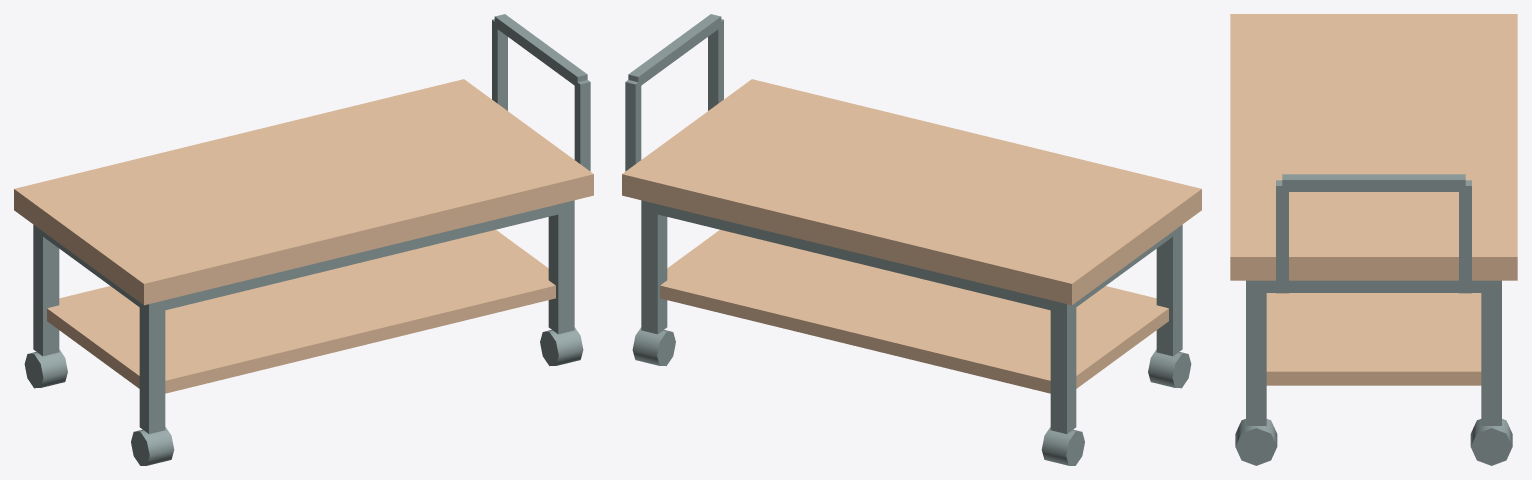
File: coffeeCartIndustrial.glb
The picture shows the model from 3 angles, left to right: view 1: azimuth 30°, elevation 25°; view 2: azimuth 150°, elevation 25°; view 3: azimuth 270°, elevation 25°; orthographic projection. The views are drawn at different scales.
Visible parts, largest first — view 1: coffeeCartIndustrial; view 2: coffeeCartIndustrial; view 3: coffeeCartIndustrial.
Part boxes in pixels (box(x1,y1,x2,y2)): coffeeCartIndustrial: box(14, 14, 593, 465); coffeeCartIndustrial: box(622, 14, 1201, 465); coffeeCartIndustrial: box(1230, 14, 1517, 465).
Bounding box in the file's own units: 0.5713 × 0.3162 × 0.275.
